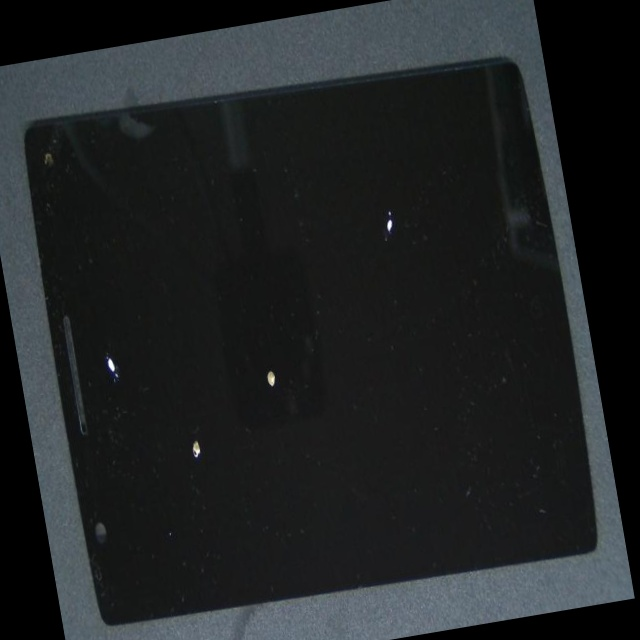stain: (138, 208, 436, 554), (87, 183, 300, 638), (197, 110, 583, 352), (36, 160, 164, 491)
